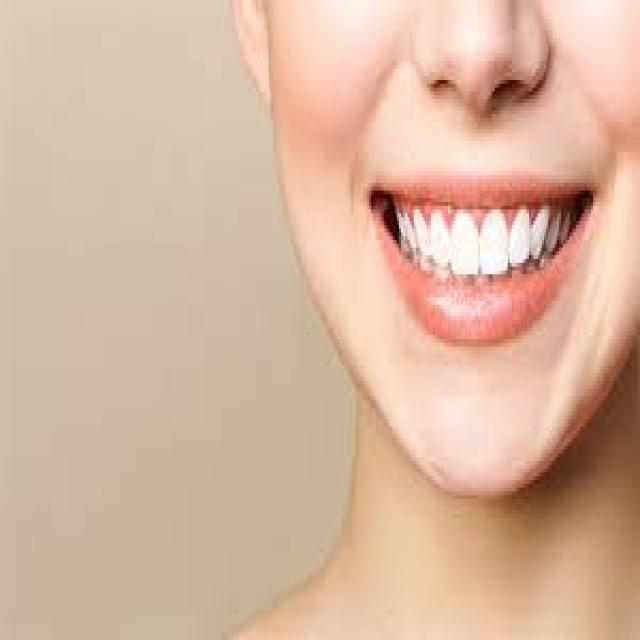tooth: (452, 209, 480, 282), (529, 206, 553, 266), (484, 225, 510, 274), (427, 210, 448, 266), (514, 210, 531, 274), (414, 206, 427, 263)
